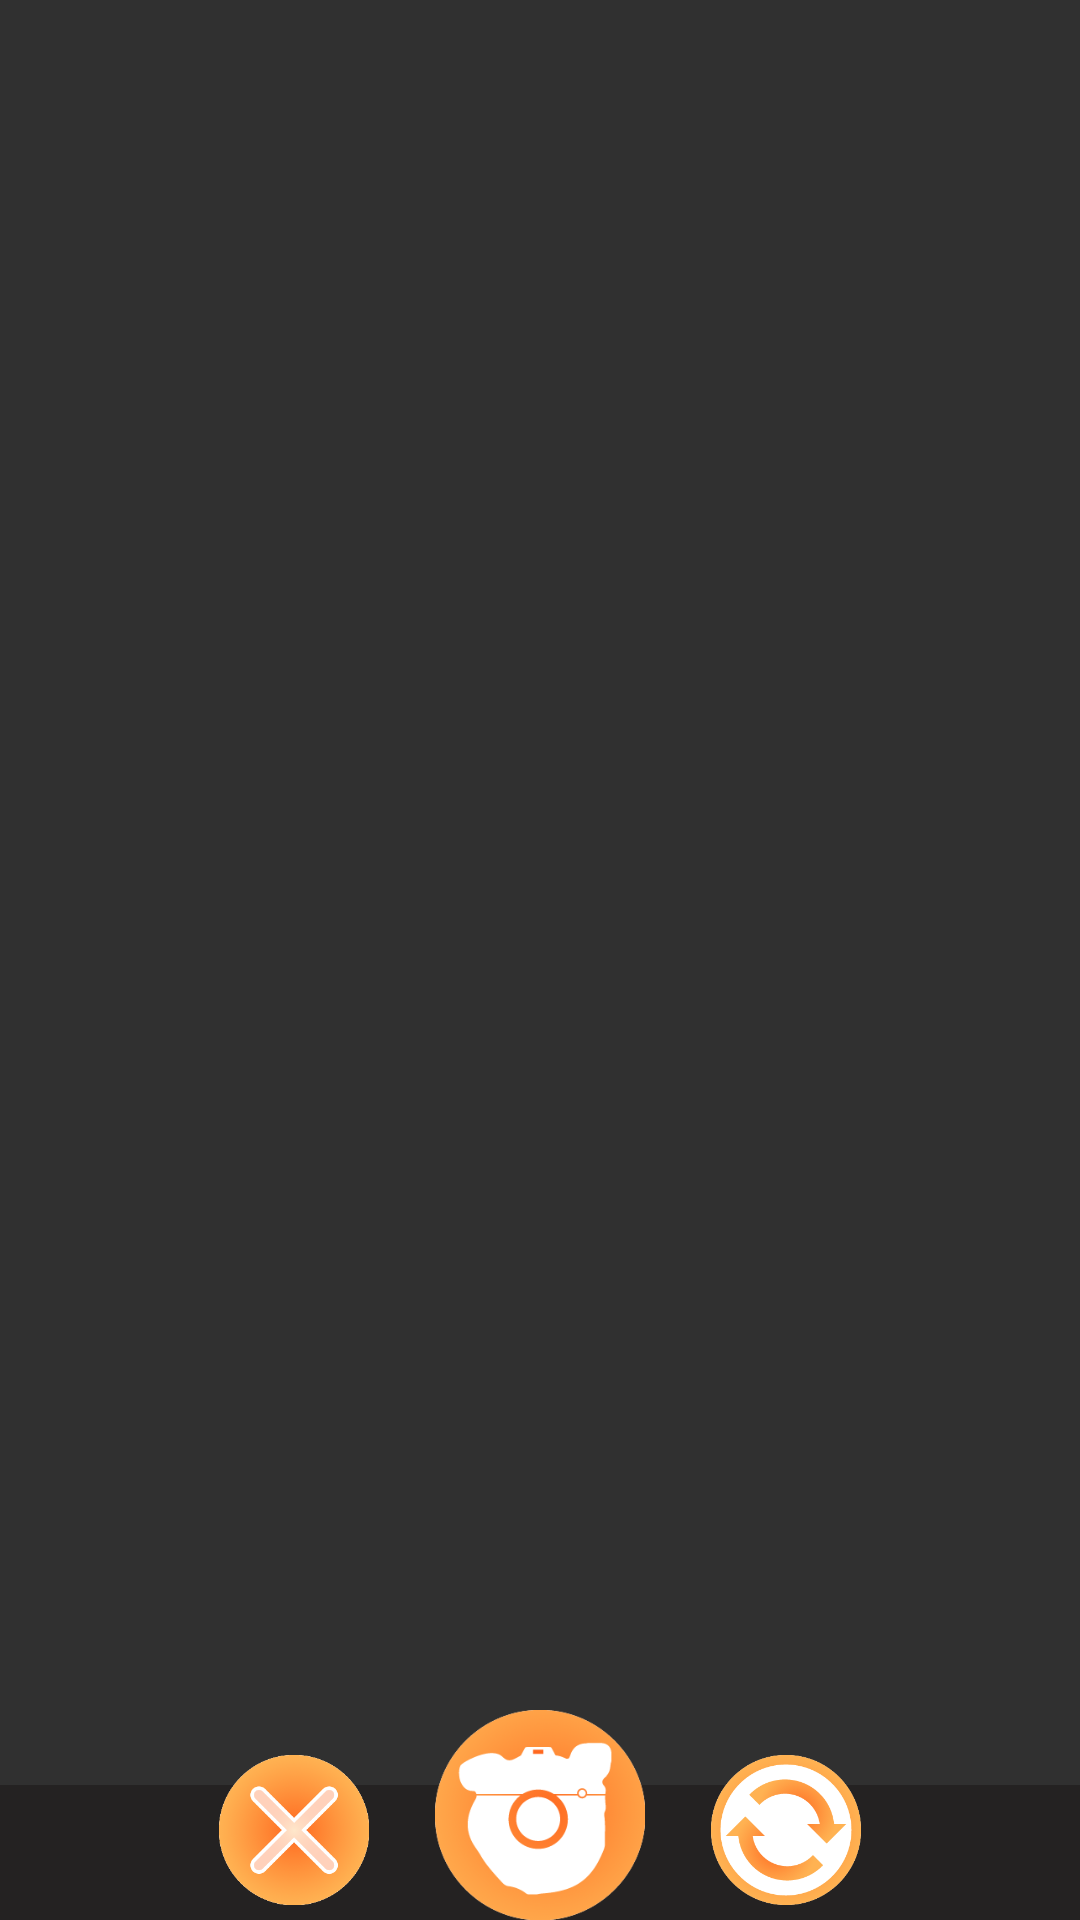

Named icons in this screenshot (1080 × 1920) and their centers, (x=x, y=y):
iconphoto: (x=540, y=1815)
iconrefresh: (x=786, y=1830)
